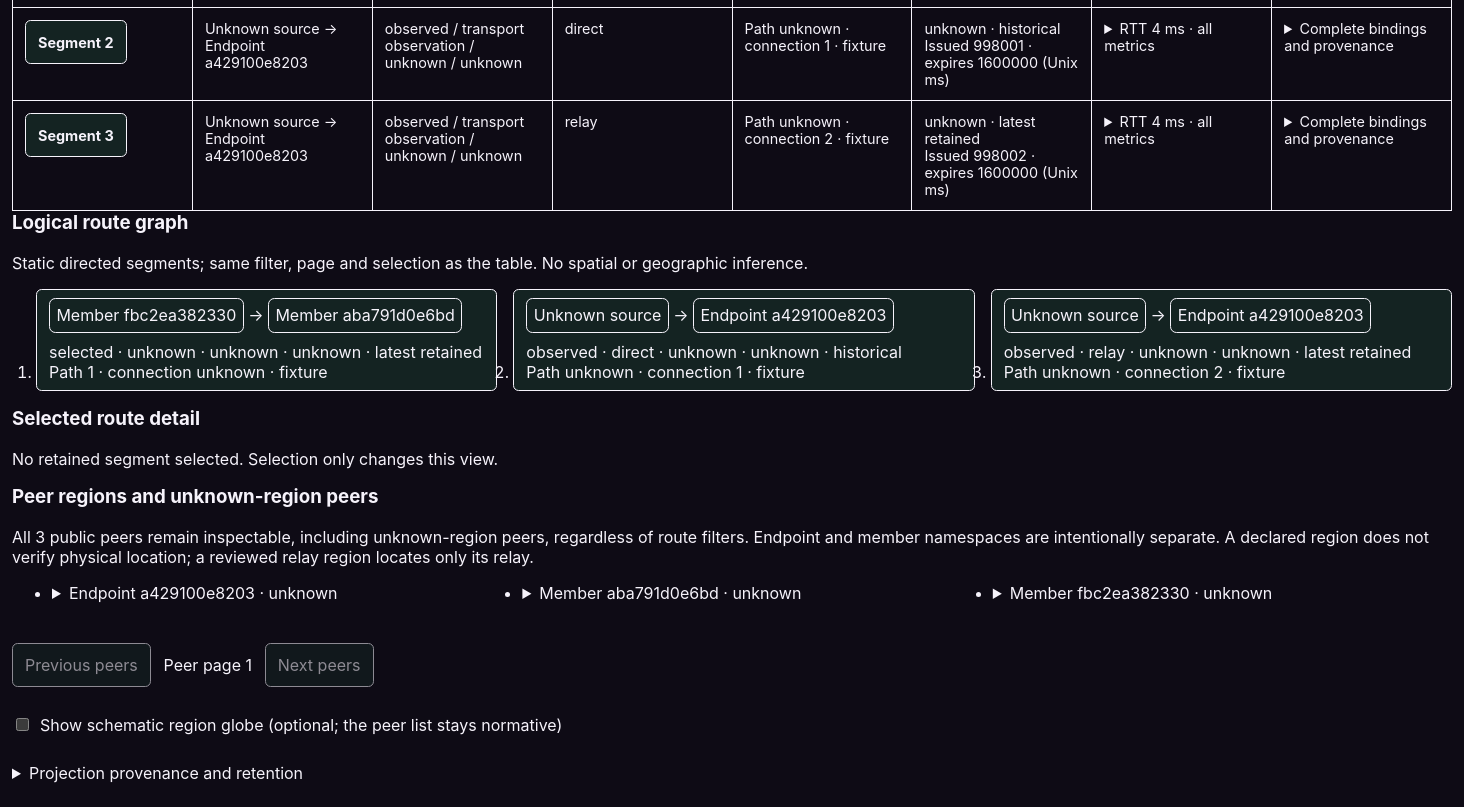
Test: A14b optional globe in the route explorer › shows an A14a-era projection with every peer off-globe
(page scrolled)
Click the checkbox labelled "Show schematic region globe" at (22, 725), box [16, 718, 29, 731]
(page scrolled)
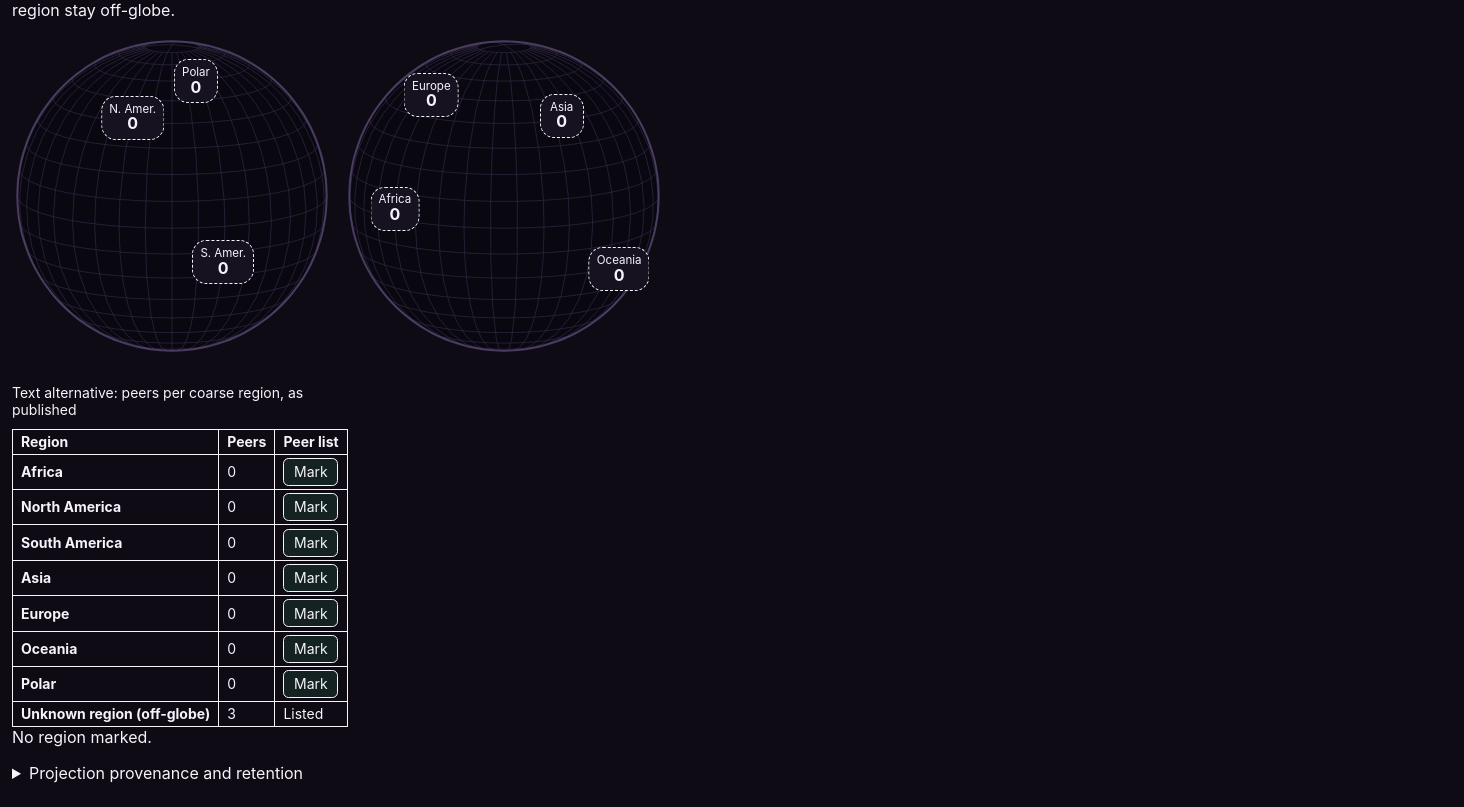
Result: the 1st text "0" is shown at [191, 79, 201, 96]
Result: the cell "3" is shown at [219, 702, 275, 727]
